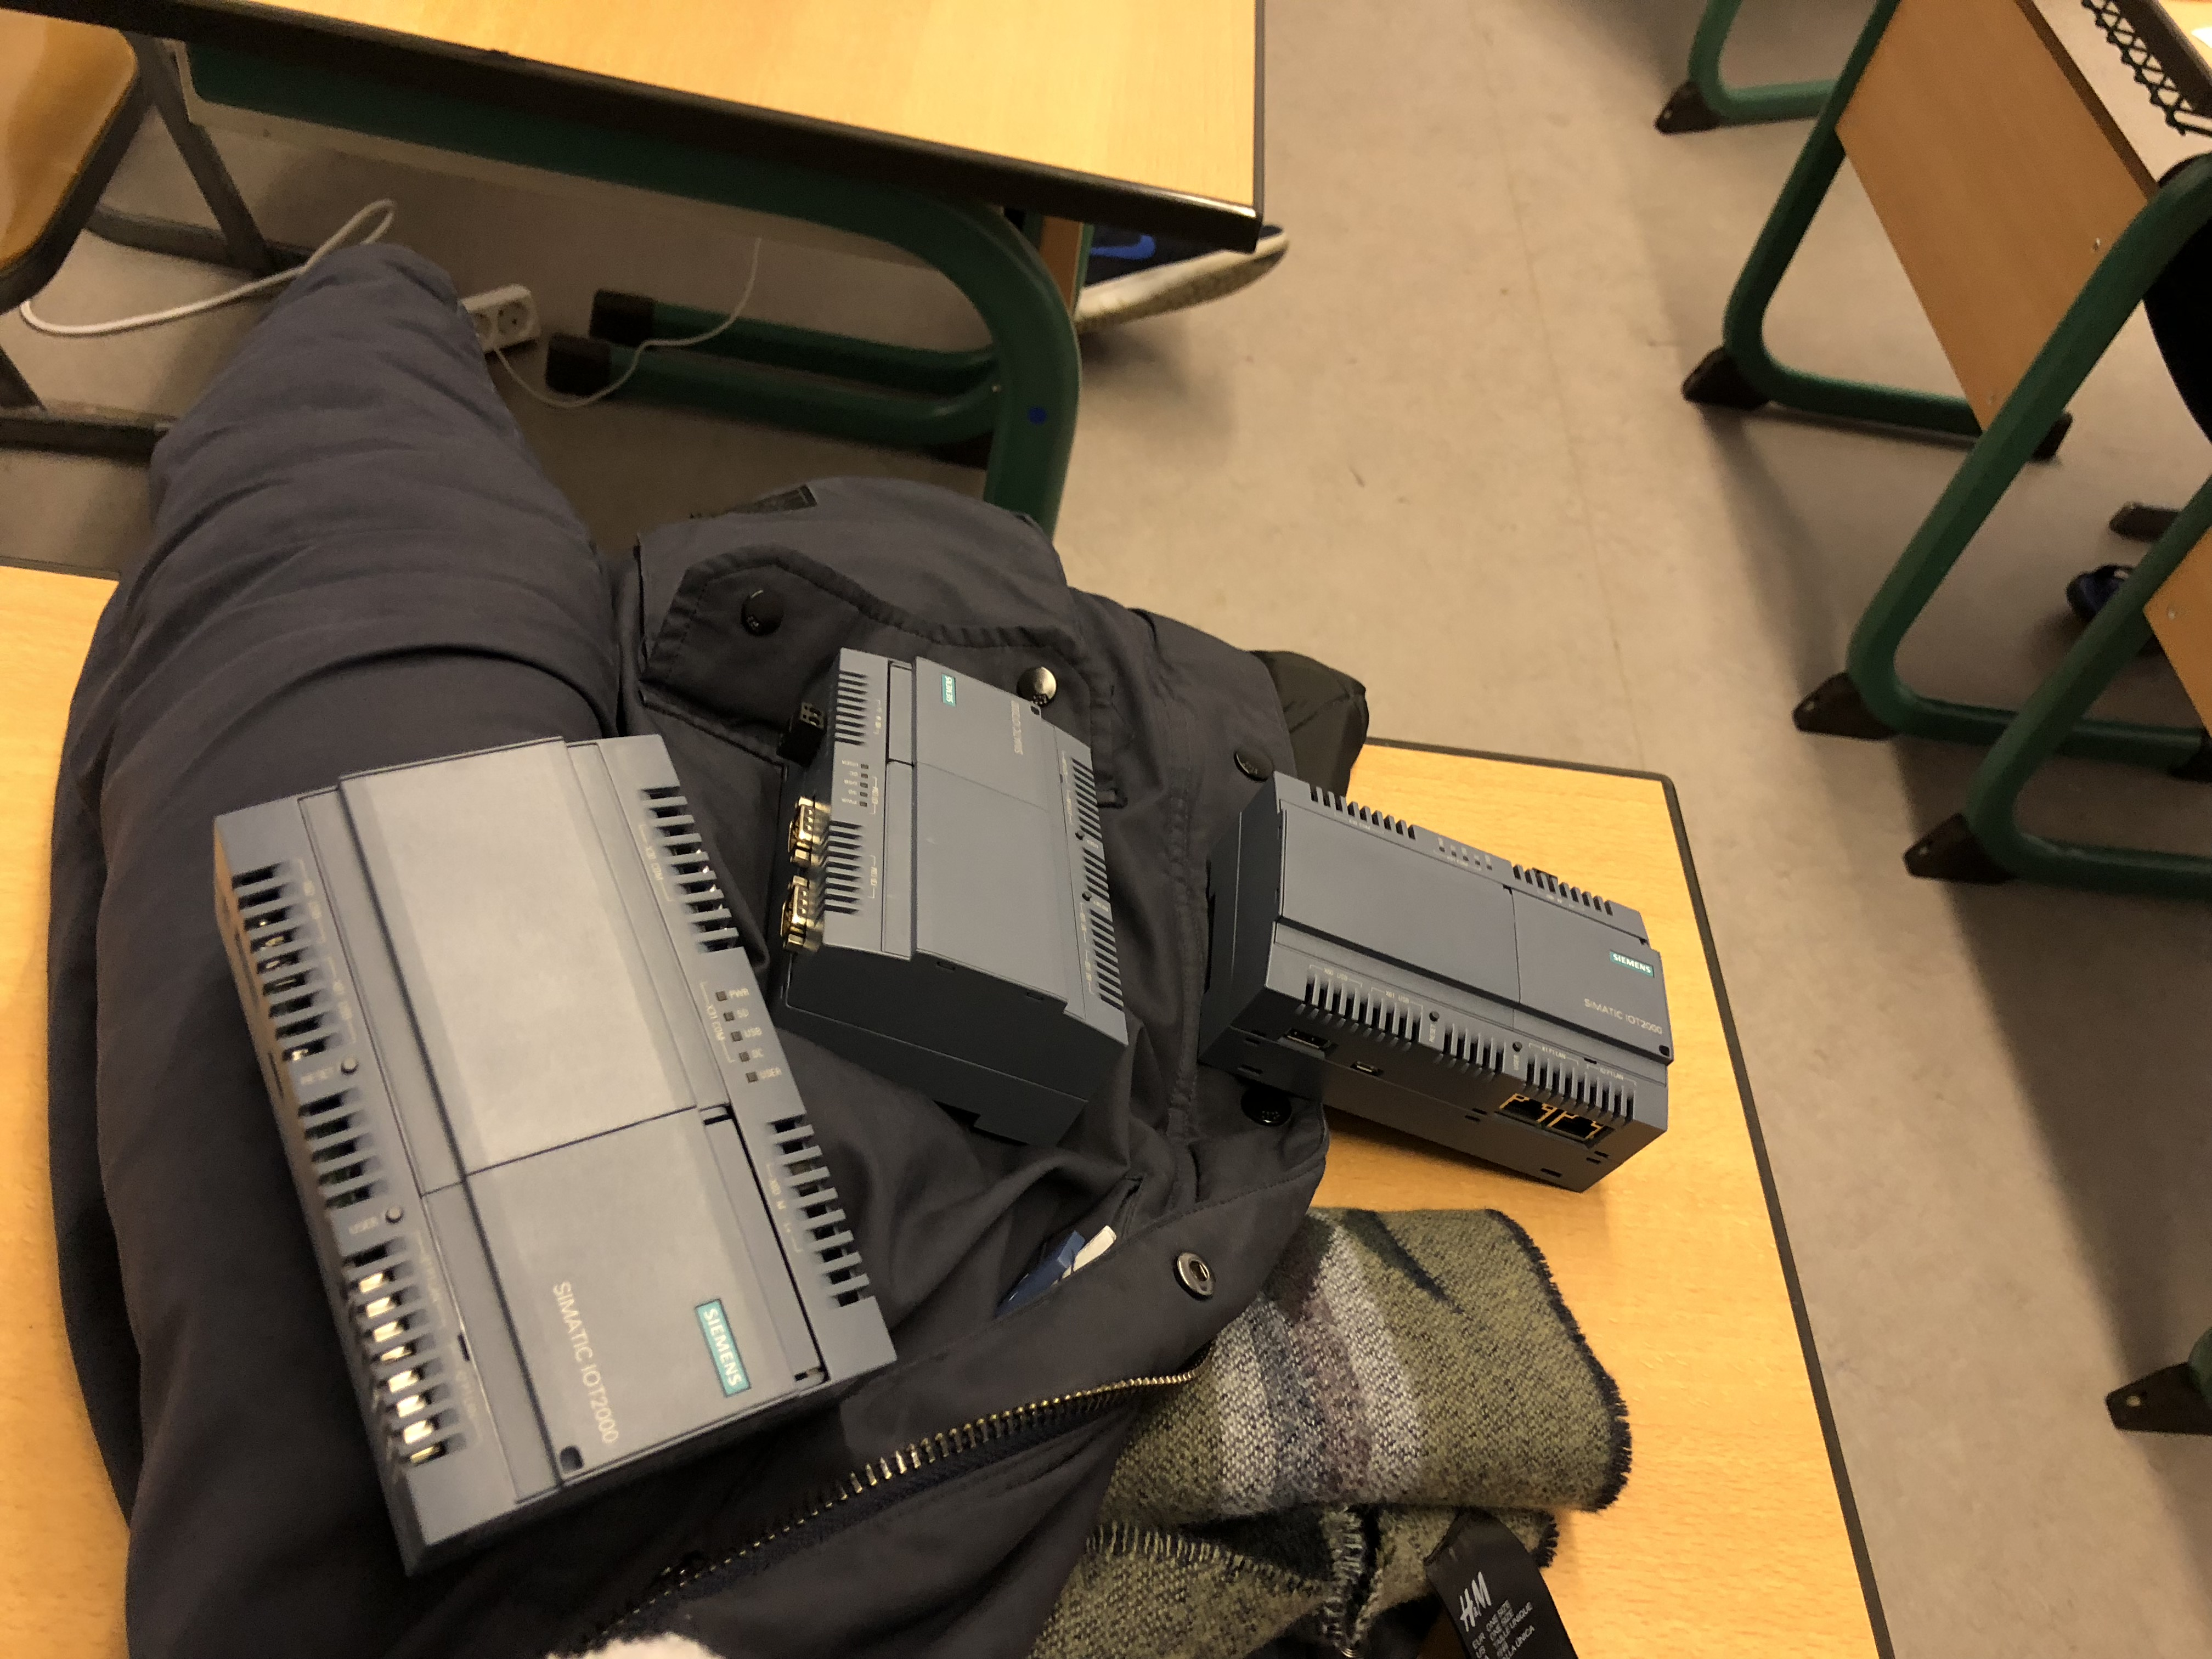device: (214, 734, 899, 1579), (1198, 769, 1676, 1194), (766, 647, 1130, 1150)
